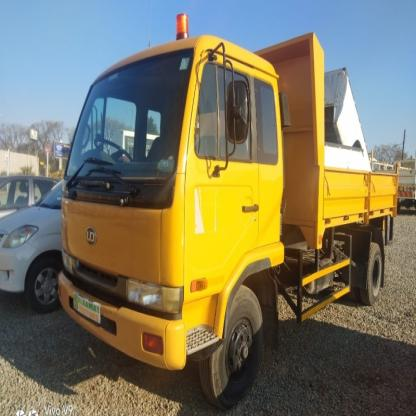dump_truck: (52, 19, 404, 409)
